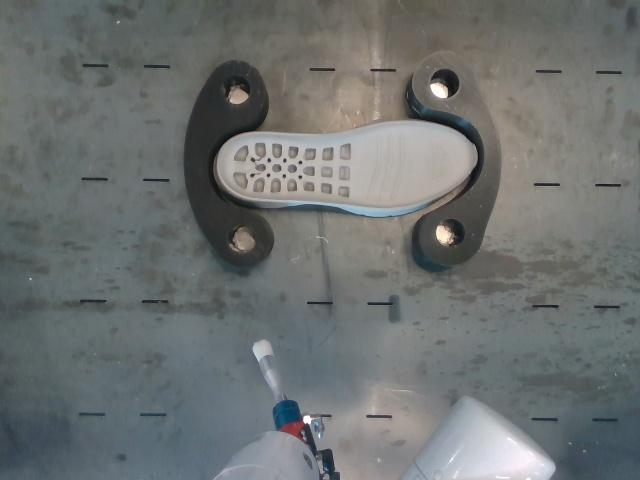shoes: (218, 122, 477, 209)
